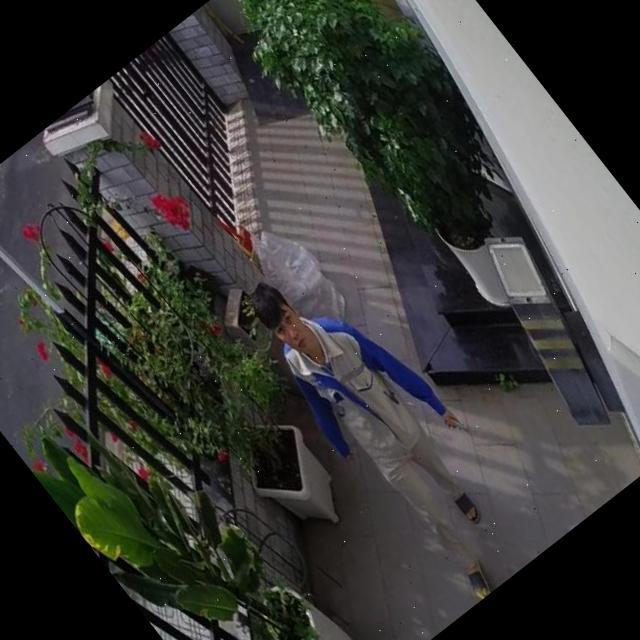person: (228, 238, 554, 612)
